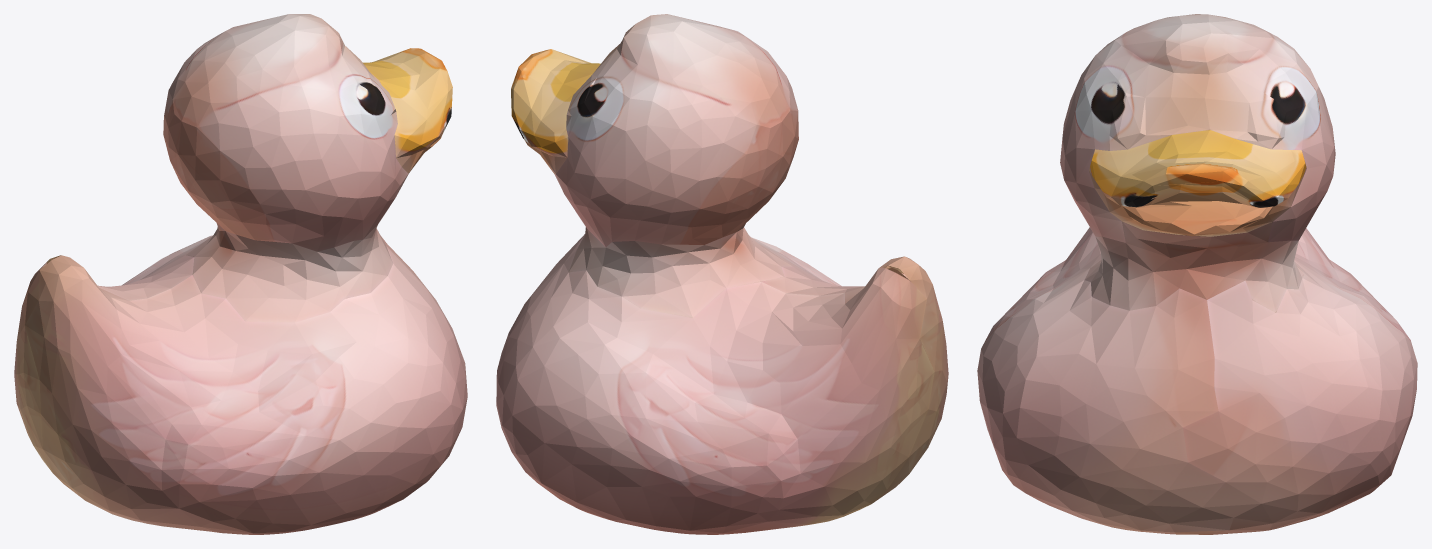
The model's file is pink_rubber_ducky.glb.
3 views of the same model, side by side, from view 1: azimuth 30°, elevation 25°; view 2: azimuth 150°, elevation 25°; view 3: azimuth 270°, elevation 25° (orthographic). The views are drawn at different scales.
Parts seen in each view (by area): view 1: final_rubber_duck; view 2: final_rubber_duck; view 3: final_rubber_duck.
Part boxes in pixels (<box>): final_rubber_duck: <box>14,14,467,534</box>; final_rubber_duck: <box>496,14,948,534</box>; final_rubber_duck: <box>977,14,1417,534</box>.
Size of the model in its own units: 1.77 by 1.78 by 1.56.
1 material, 1 textured.
